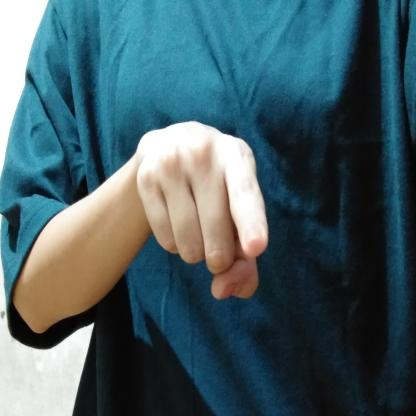you: (132, 116, 280, 317)
